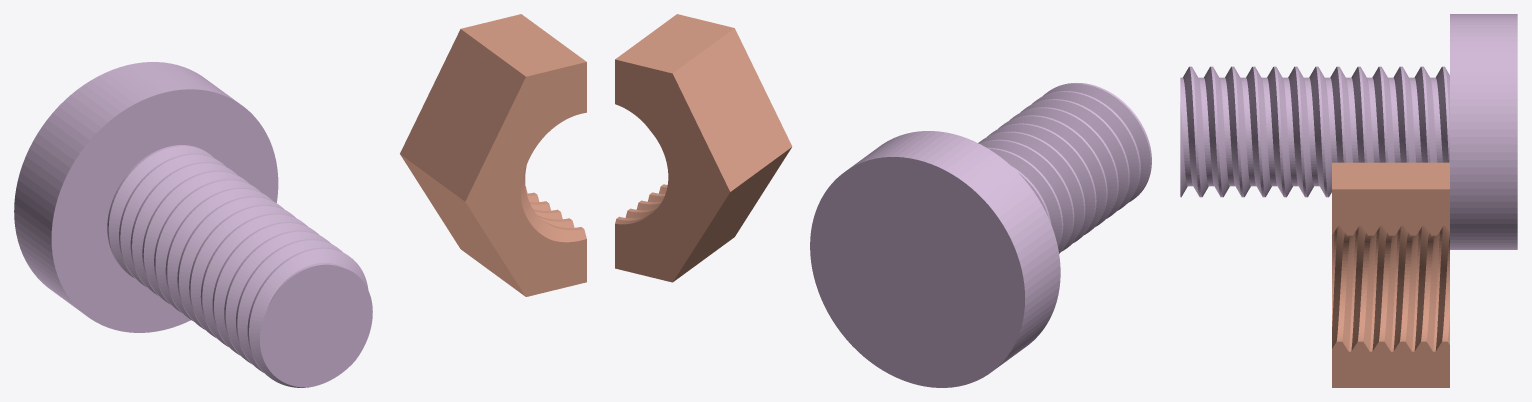
File: thread_demo.glb
3 renders of one model, left to right at view 1: azimuth 30°, elevation 25°; view 2: azimuth 150°, elevation 25°; view 3: azimuth 270°, elevation 25°, orthographic. The views are drawn at different scales.
Visible parts, largest first — view 1: m8_bolt, tapped_nut_cutaway; view 2: m8_bolt, tapped_nut_cutaway; view 3: m8_bolt, tapped_nut_cutaway.
Boxes of the visible parts, <box> form: m8_bolt: <box>14,62,372,387</box>; tapped_nut_cutaway: <box>400,14,586,296</box>; m8_bolt: <box>810,83,1151,387</box>; tapped_nut_cutaway: <box>615,14,792,282</box>; m8_bolt: <box>1180,14,1517,249</box>; tapped_nut_cutaway: <box>1332,162,1449,387</box>.
Size of the model in its own units: 29 by 14 by 20.
